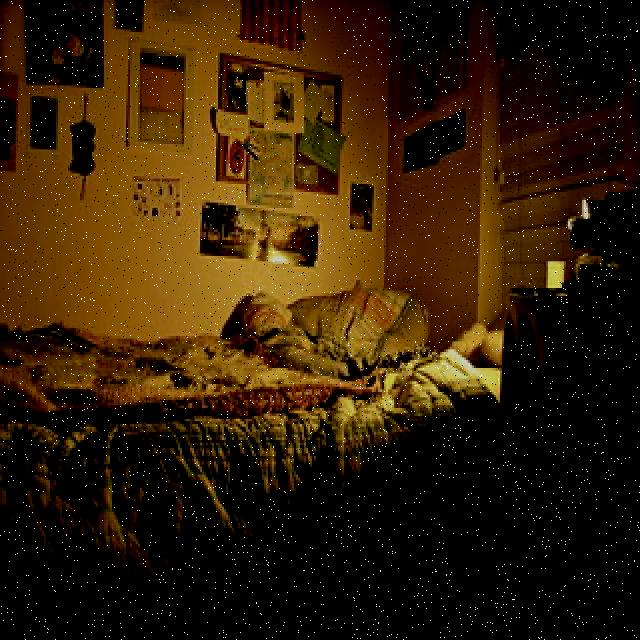bed: (0, 278, 499, 588)
